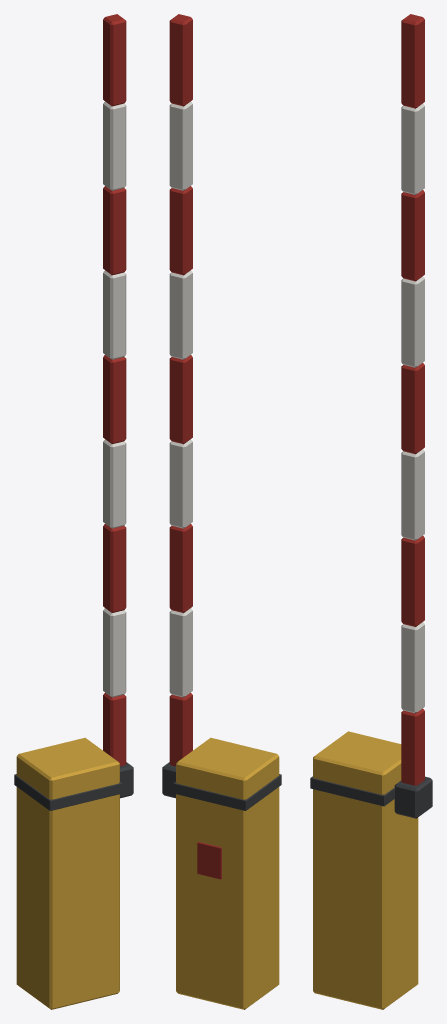
The model's file is prop_car_park_barrier.glb.
3 views of the same model, side by side, from view 1: azimuth 30°, elevation 25°; view 2: azimuth 150°, elevation 25°; view 3: azimuth 330°, elevation 25° (orthographic). The views are drawn at different scales.
Visible parts, largest first — view 1: Body; view 2: Body; view 3: Body.
Part boxes in pixels (x1,y1,x2,y2): Body: [14, 14, 133, 1009]; Body: [162, 14, 281, 1009]; Body: [310, 14, 432, 1009].
Size of what is drawn, in the model's own units: 0.47 by 4.55 by 0.315.
